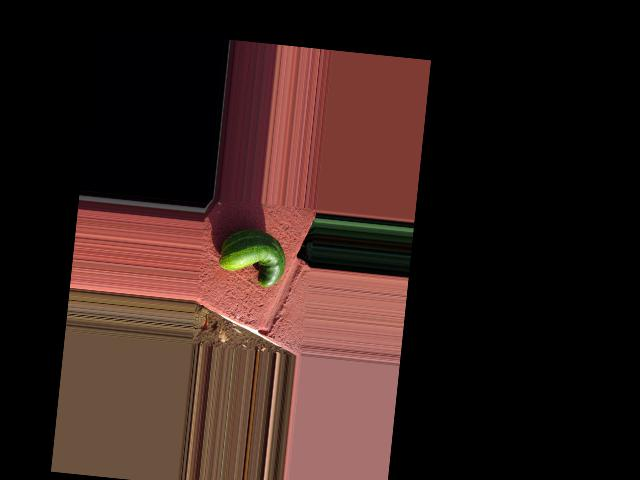cucumber: (217, 226, 288, 289)
